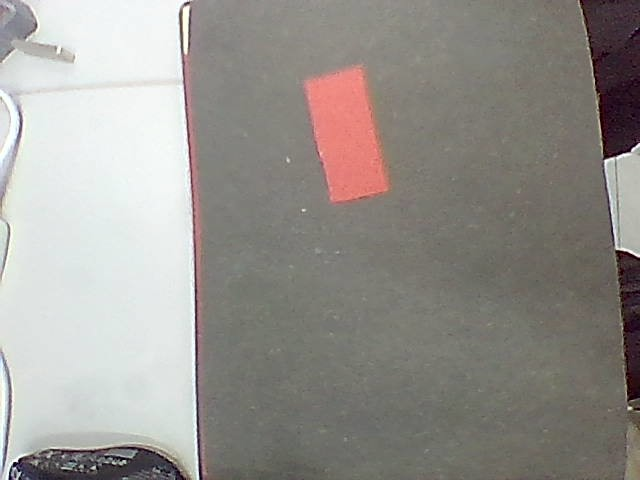card: (305, 66, 387, 201)
